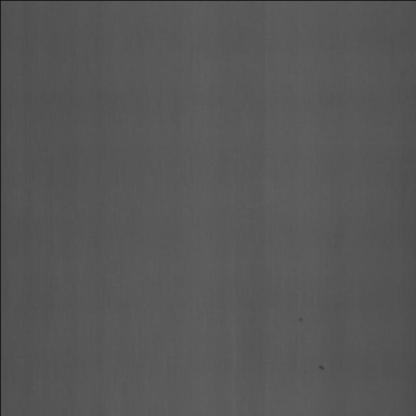inclusion: (294, 307, 307, 340), (316, 359, 329, 390)
